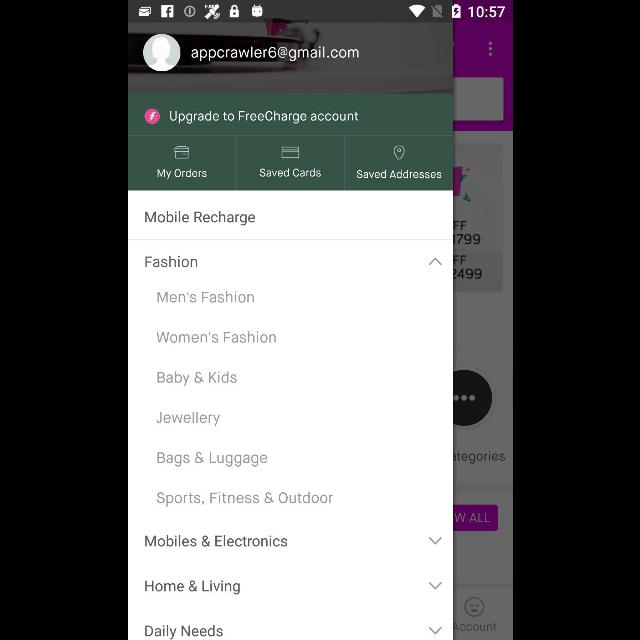icon: (143, 34, 180, 72), (428, 627, 442, 635), (428, 582, 442, 590), (428, 258, 442, 266), (428, 538, 442, 544)
image: (143, 109, 159, 125)
panel: (128, 22, 452, 640)
text: (156, 491, 332, 507), (190, 46, 358, 62), (169, 112, 357, 125), (144, 534, 286, 548), (143, 212, 254, 226), (157, 452, 267, 466), (156, 331, 276, 343), (144, 580, 240, 594), (156, 371, 236, 387), (156, 291, 254, 303), (144, 625, 222, 639), (155, 412, 219, 426), (145, 256, 197, 268)
textbutton: (344, 136, 452, 190), (236, 136, 344, 190), (128, 136, 235, 190)
uppertaskbar: (128, 1, 512, 23)
